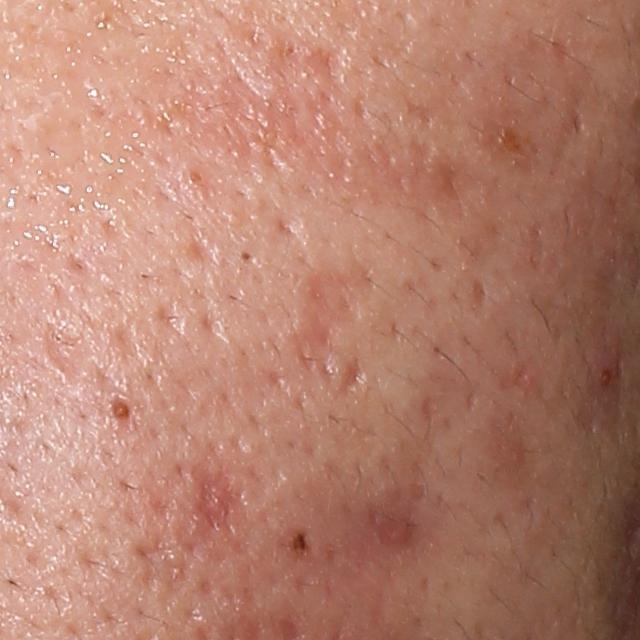atrophic_scar: (127, 5, 482, 273), (276, 250, 387, 401), (40, 271, 148, 388), (165, 453, 254, 548), (357, 506, 436, 565), (128, 535, 191, 608), (373, 2, 423, 74), (184, 231, 231, 278), (471, 269, 491, 325), (574, 112, 586, 139)
comedo: (112, 395, 133, 424), (183, 165, 209, 187)
nevus: (279, 526, 315, 558)
papule: (590, 356, 625, 390)
